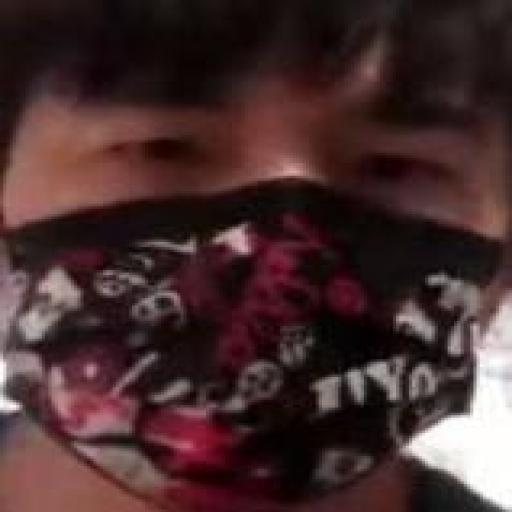mask: (8, 70, 488, 511)
